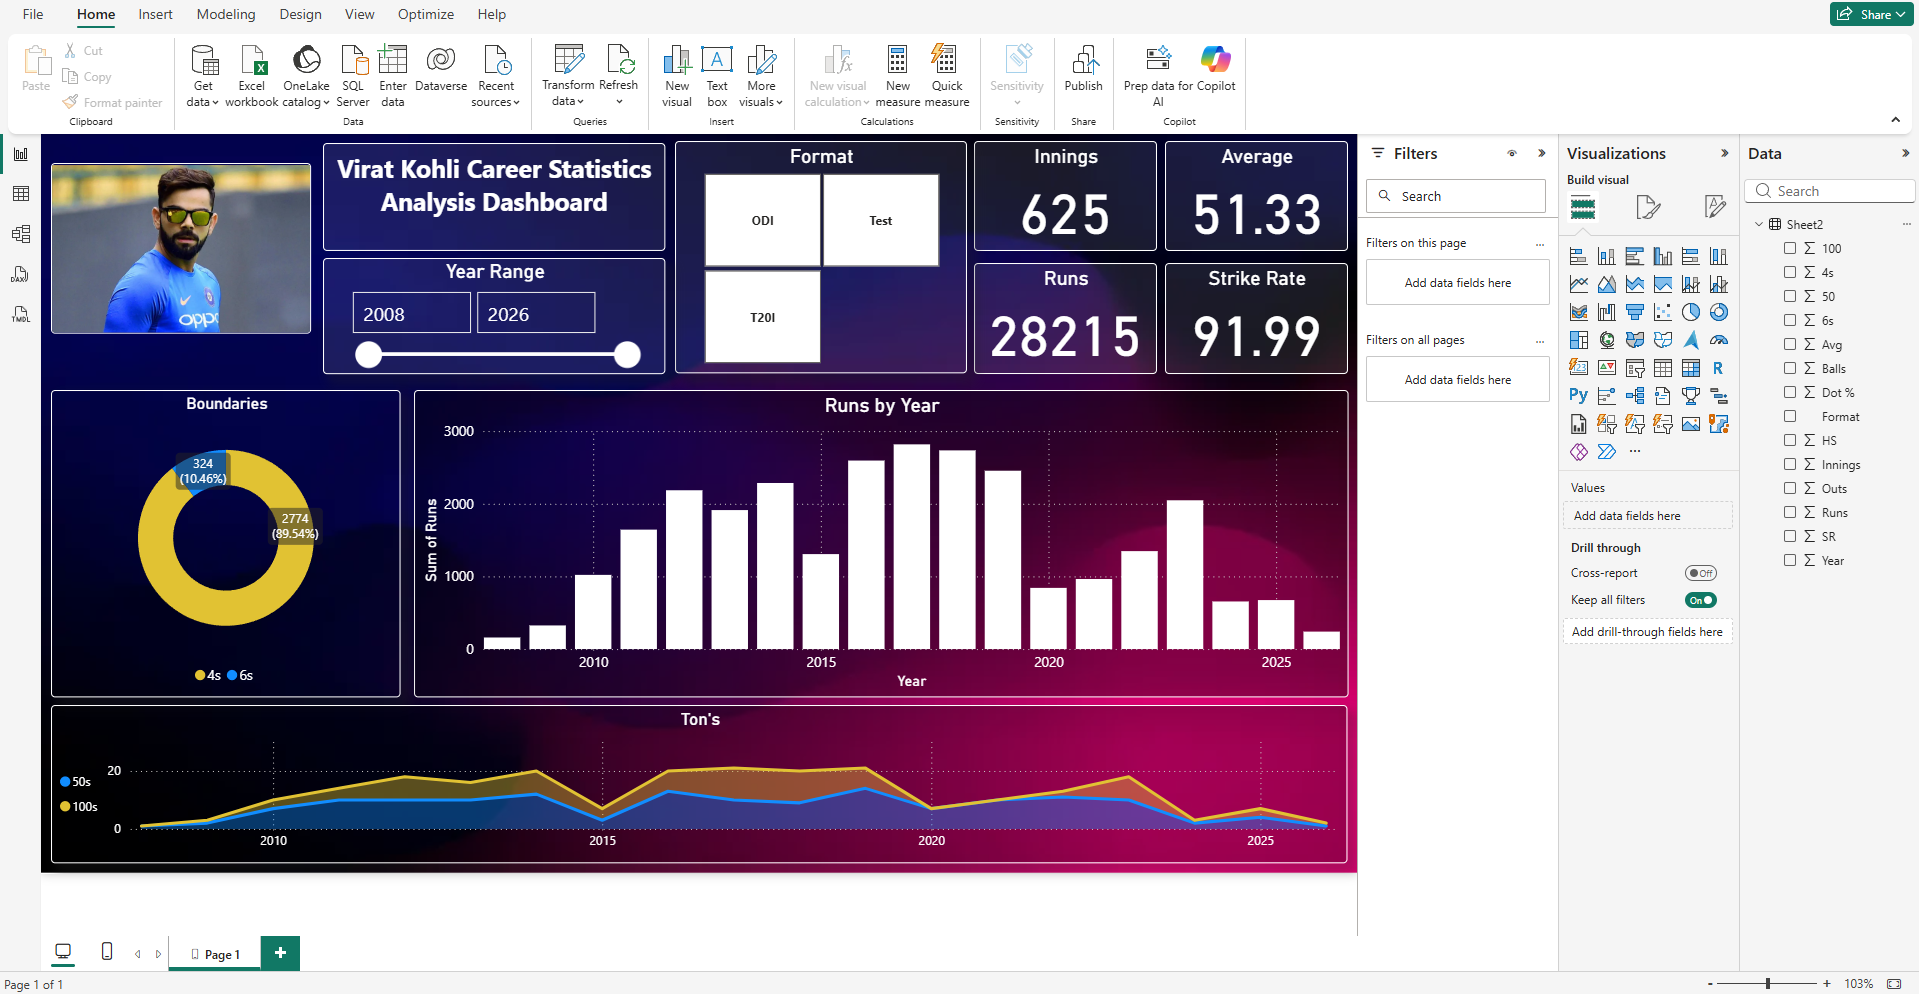

What the dashboard file says about the page in this screenshot:
{"tool":"powerbi","page":{"name":"Page 1","canvas":[1280,720],"ordinal":0},"visuals":[{"type":"image","box":[9.9,27.8,253.2,166.1],"z":0},{"type":"textbox","box":[273.8,9,333.1,105],"z":1000},{"type":"card","title":"Innings","fields":{"Values":["Sum(Sheet2.Innings)"]},"box":[907.6,7.2,177.8,106.8],"z":2000},{"type":"card","title":"Runs","fields":{"Values":["Sum(Sheet2.Runs)"]},"box":[907.6,125.7,177.8,107.7],"z":3000},{"type":"card","title":"Average","fields":{"Values":["Avg(Sheet2.Avg)"]},"box":[1093.5,7.2,177.8,106.8],"z":4000},{"type":"card","title":"Strike Rate","fields":{"Values":["Avg(Sheet2.SR)"]},"box":[1093.5,125.7,177.8,107.7],"z":5000},{"type":"slicer","title":"Format","fields":{"Values":["Sheet2.Format"]},"box":[616.8,7.2,283.7,226.2],"z":6000},{"type":"slicer","title":"Year Range","fields":{"Values":["Sheet2.Year"]},"box":[273.8,120.3,333.1,113.1],"z":7000},{"type":"clusteredColumnChart","title":"Runs by Year","fields":{"Category":["Sheet2.Year"],"Y":["Sum(Sheet2.Runs)"]},"box":[362.7,248.7,908.5,299],"z":8000},{"type":"donutChart","title":"Boundaries","fields":{"Y":["Sum(Sheet2.4s)","Sum(Sheet2.6s)"]},"box":[9.9,248.7,340.2,299],"z":9000},{"type":"stackedAreaChart","title":"Ton''s","fields":{"Category":["Sheet2.Year"],"Y":["Sum(Sheet2.50)","Sum(Sheet2.100)"]},"box":[9.9,555.7,1261.3,153.5],"z":9001}]}

Visuals, with their boxes on the page's 1280x720 design canvas (x1, y1, x2, y2). These are canvas units, not pixel positions in the 1919x994 screenshot, which may show the page scaled, cropped or inside an application window:
image: x1=10 y1=28 x2=263 y2=194
textbox: x1=274 y1=9 x2=607 y2=114
"Innings" card: x1=908 y1=7 x2=1085 y2=114
"Runs" card: x1=908 y1=126 x2=1085 y2=233
"Average" card: x1=1094 y1=7 x2=1271 y2=114
"Strike Rate" card: x1=1094 y1=126 x2=1271 y2=233
"Format" slicer: x1=617 y1=7 x2=900 y2=233
"Year Range" slicer: x1=274 y1=120 x2=607 y2=233
"Runs by Year" clusteredColumnChart: x1=363 y1=249 x2=1271 y2=548
"Boundaries" donutChart: x1=10 y1=249 x2=350 y2=548
"Ton''s" stackedAreaChart: x1=10 y1=556 x2=1271 y2=709
